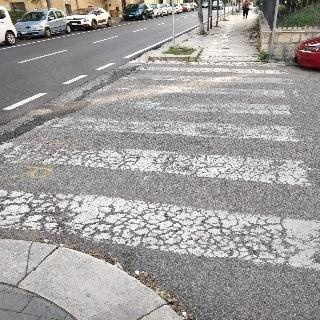road_crosswalk: (15, 61, 318, 264)
